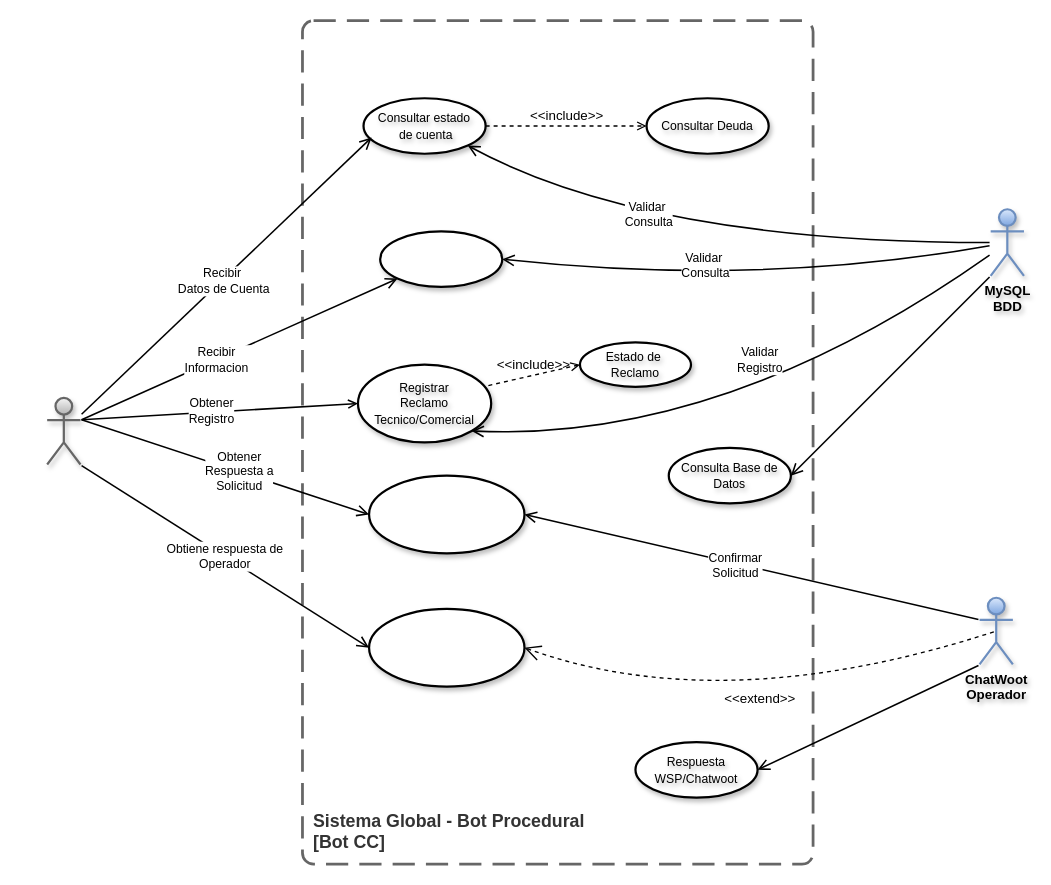
Image size: 1051x885. Some labels were removed from this diagram. The shapes that lost their labels are listed below. From the top down, each one's centre as x and y in pixels, then its label:
At [441,260]: "Consultar Informacion de Servicios".
At [64,432]: "Socio/Usuario".
At [447,516]: "Solicitar Excepcion/Compromiso de Pago".
At [447,649]: "Solicitar Transferencia a Operador".
